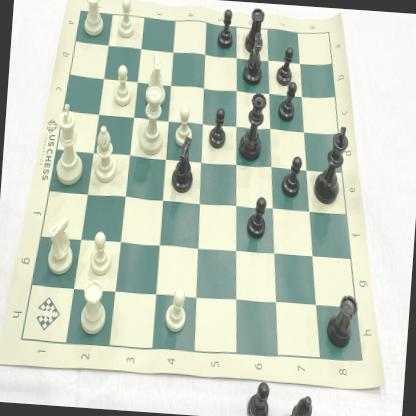black-king: (309, 122, 352, 209)
black-knight: (167, 134, 200, 196), (238, 31, 270, 88)
black-pawn: (244, 192, 272, 242), (280, 150, 304, 202), (205, 105, 230, 151), (276, 80, 300, 126), (214, 6, 238, 52), (275, 45, 297, 89)
black-queen: (234, 92, 270, 166)
black-rook: (323, 284, 360, 350), (240, 5, 266, 52)
white-bishop: (90, 121, 122, 187)
white-king: (48, 101, 88, 190)
white-pawn: (162, 284, 190, 338), (110, 62, 138, 112), (88, 228, 115, 279), (171, 102, 196, 149), (113, 0, 137, 40)
white-queen: (134, 84, 170, 158)
white-rook: (41, 210, 78, 278), (74, 275, 111, 338), (142, 47, 172, 107), (77, 0, 108, 38)
